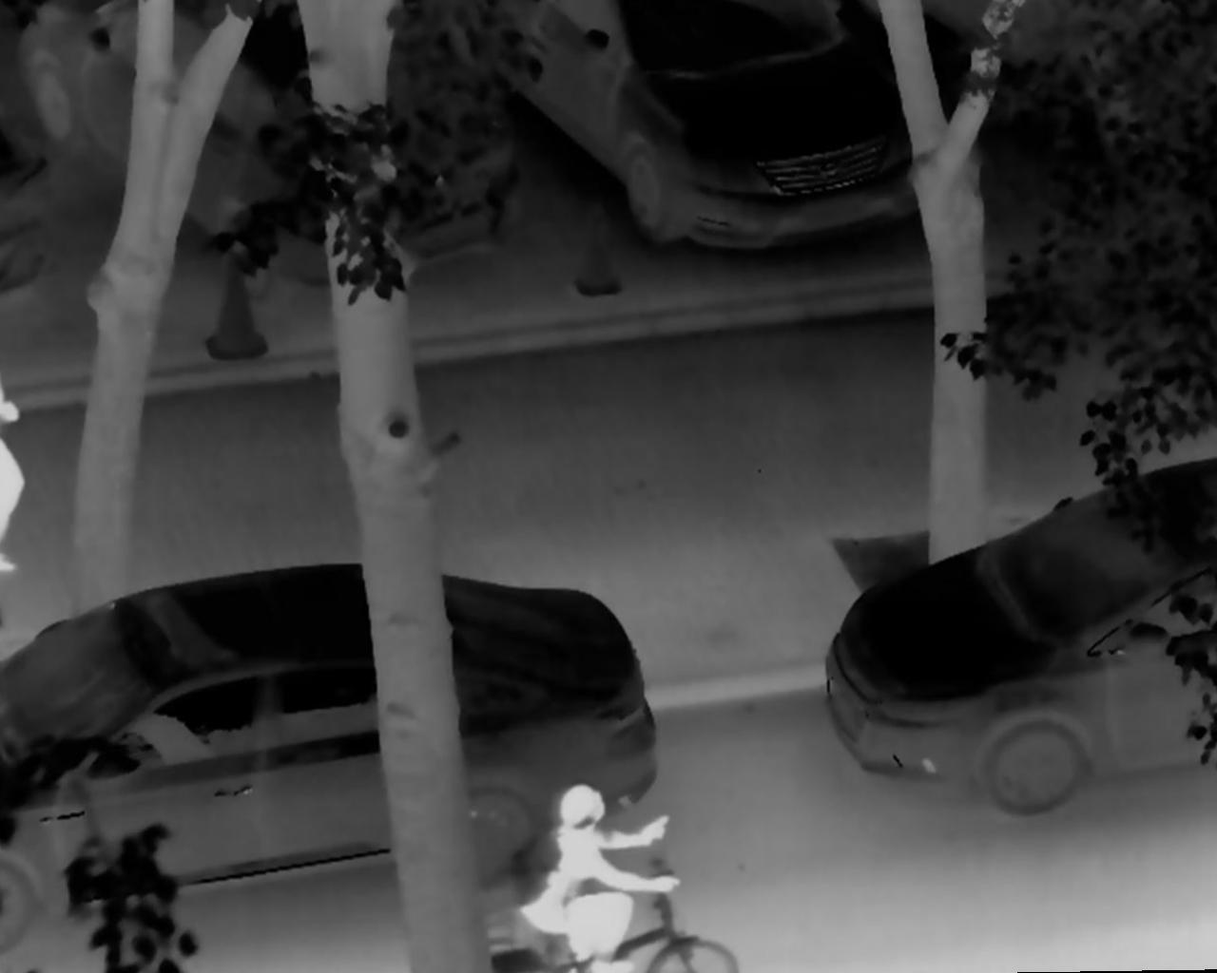person: (498, 767, 689, 973)
